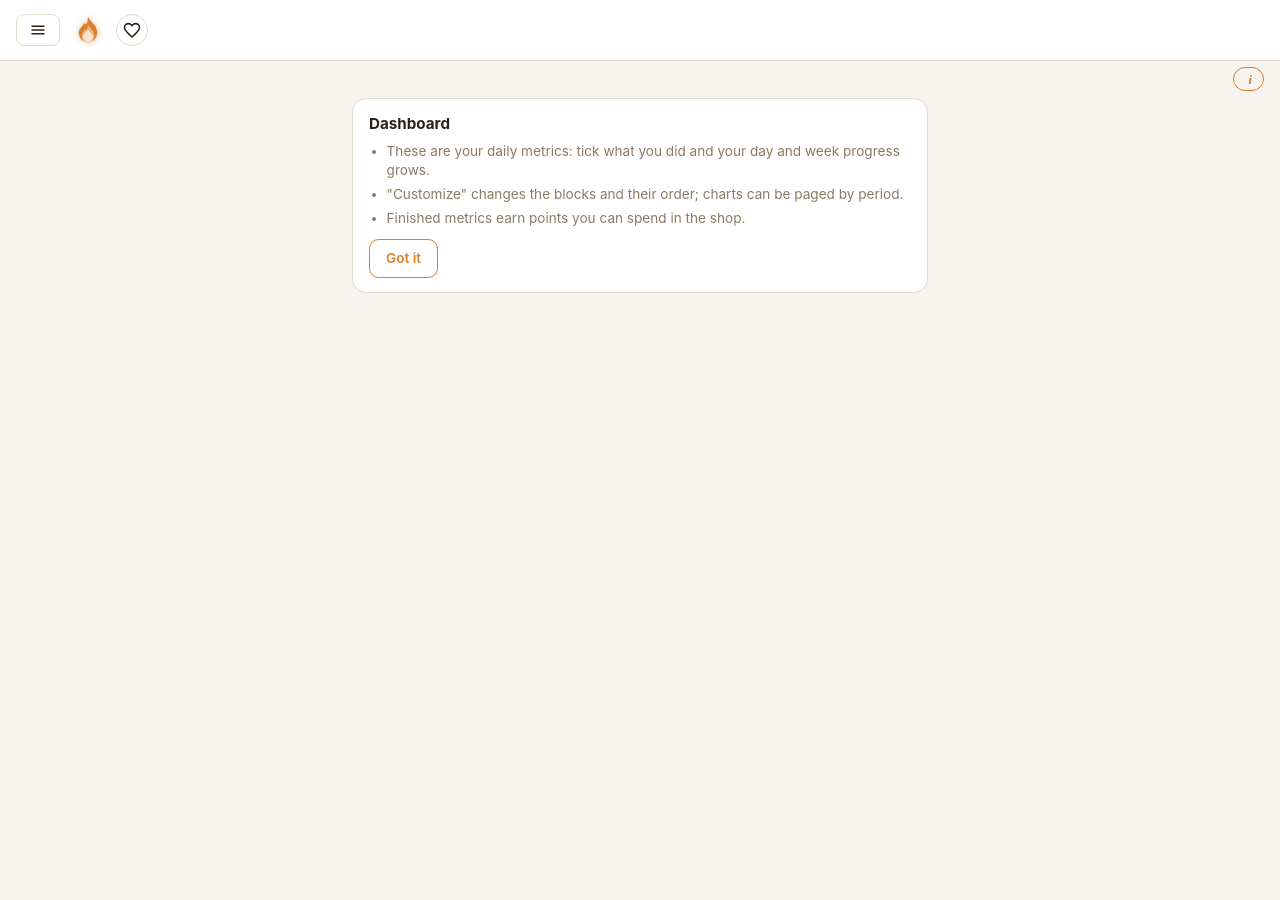
Scenario: AppShell: быстрые ссылки › клик раскрывает ссылки на остальные разделы; текущий раздел выделен; Дашборд в списке нет
Click the button with test id "quicknav-toggle": (132, 30) top-left (116, 14), bottom-right (148, 46)
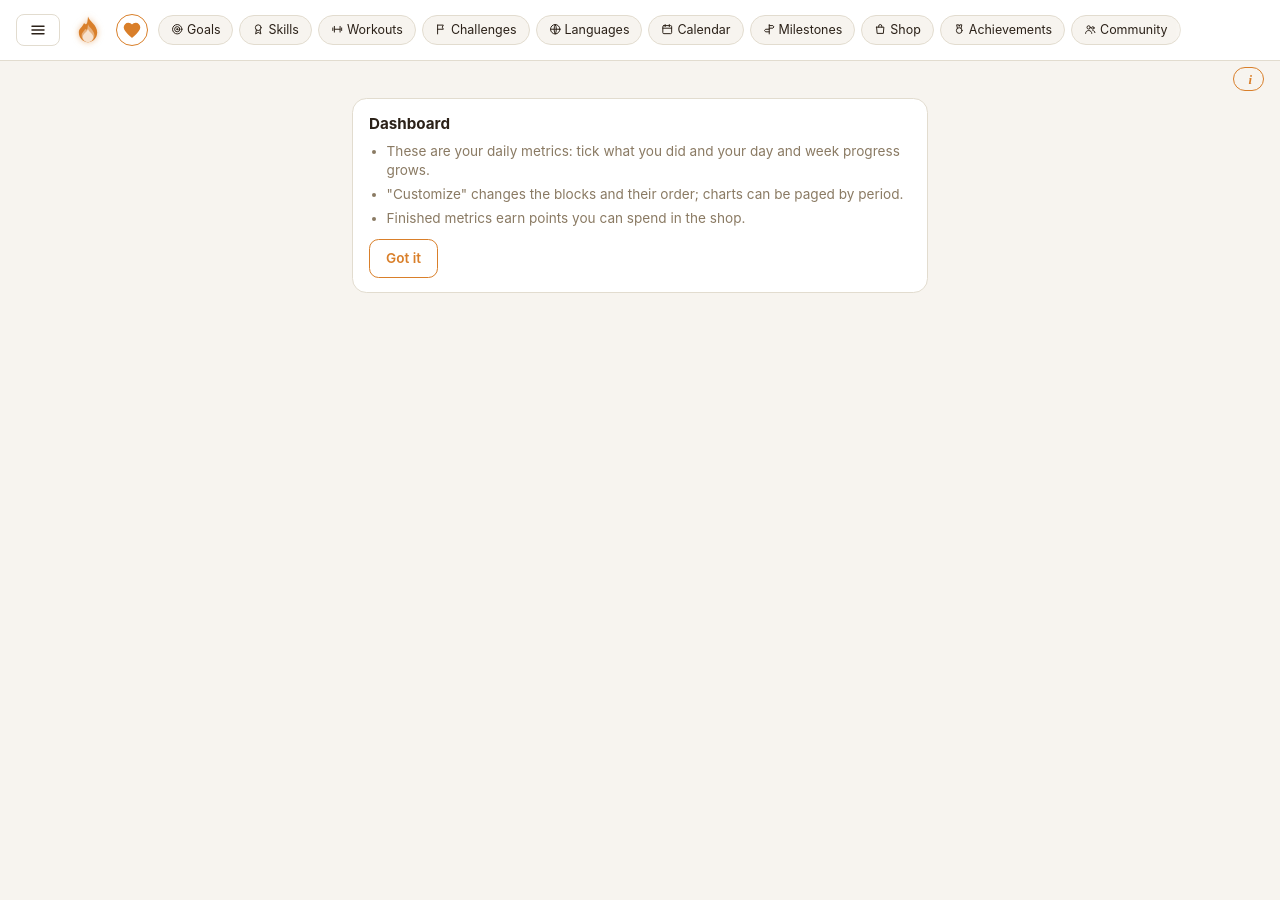
Expected: the button with test id "quicknav-toggle" is expanded, top-left (116, 14), bottom-right (148, 46)
